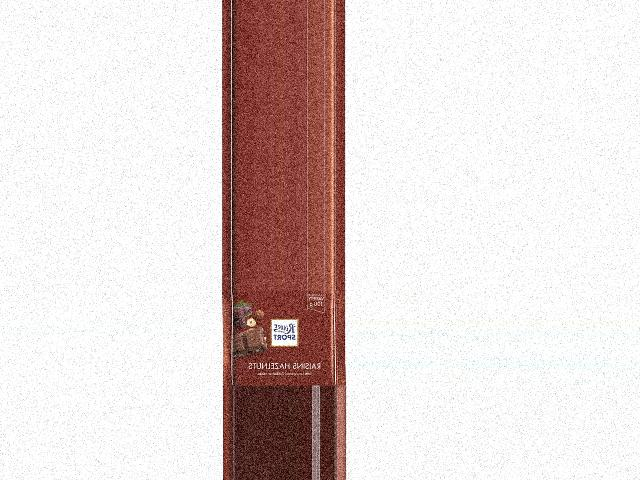chocolate: (220, 290, 345, 387)
